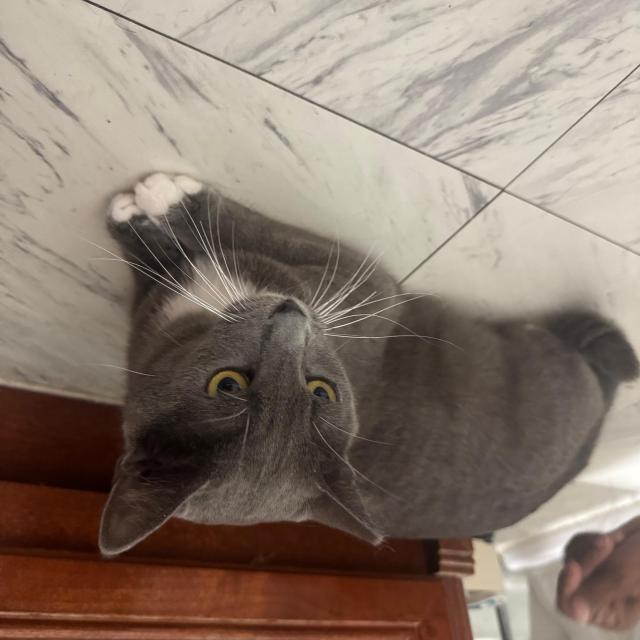russian_blue_cat: (93, 280, 397, 573)
